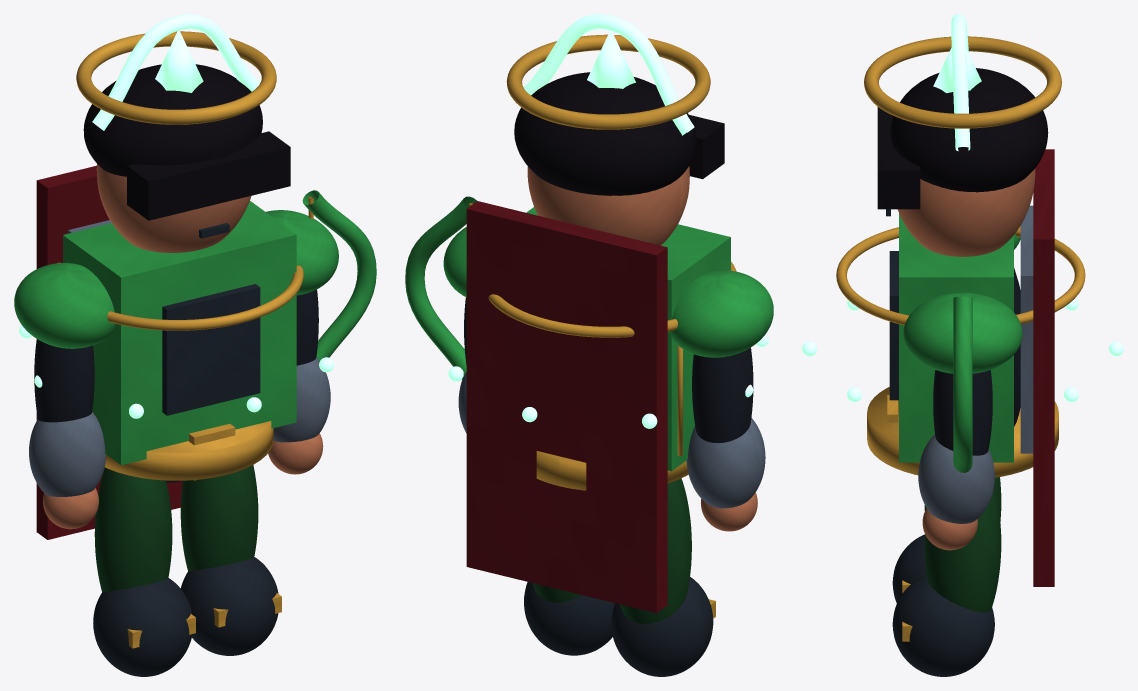
Rendered from Transcendence.glb.
The picture shows the model from 3 angles, left to right: view 1: azimuth 30°, elevation 25°; view 2: azimuth 150°, elevation 25°; view 3: azimuth 270°, elevation 25°; orthographic projection. The views are drawn at different scales.
Parts seen in each view (by area): view 1: ChestPlate, Hair, ChestInset, HairFringe, Leg, Boot, Boot.001, Leg.001, Shoulder, Cape, CrownRing, Head (+13 smaller); view 2: Cape, Hair, Shoulder, Head, CrownRing, ChestPlate, Boot, Arm, Gauntlet, Boot.001, Bow, TranscendentCrest (+8 smaller); view 3: ChestPlate, Hair, Cape, Head, Boot.001, CrownRing, Shoulder.001, Leg.001, Gauntlet.001, Bow, BackArmor, WaistGuard (+9 smaller).
Boxes of the visible parts, x1,y1,x2,y2 form: ChestPlate: (63,201,296,465); Hair: (83,64,262,176); ChestInset: (162,284,260,415); HairFringe: (127,131,290,220); Leg: (94,467,172,592); Boot: (93,578,192,676); Boot.001: (180,557,278,655); Leg.001: (180,465,258,571); Shoulder: (14,263,115,348); Cape: (36,165,182,539); CrownRing: (76,31,276,124); Head: (96,164,251,252); Cape: (466,201,667,613); Hair: (514,72,696,195); Shoulder: (669,270,773,357); Head: (527,166,689,245); CrownRing: (506,34,710,129); ChestPlate: (526,207,730,471); Boot: (611,577,713,676); Arm: (692,347,753,443); Gauntlet: (686,418,765,508); Boot.001: (524,582,614,655); Bow: (405,196,476,379); TranscendentCrest: (523,14,694,135); ChestPlate: (899,213,1013,462); Hair: (890,68,1048,192); Cape: (1033,149,1054,586); Head: (897,168,1035,256); Boot.001: (892,575,994,676); CrownRing: (864,36,1061,128); Shoulder.001: (903,292,1022,373); Leg.001: (924,487,1001,612); Gauntlet.001: (918,434,994,523); Bow: (953,296,972,472); BackArmor: (1020,205,1033,453); WaistGuard: (867,387,1058,477).
Size of the model in its own units: 1.88 by 3.27 by 1.51.
12 materials, 9 textured.
